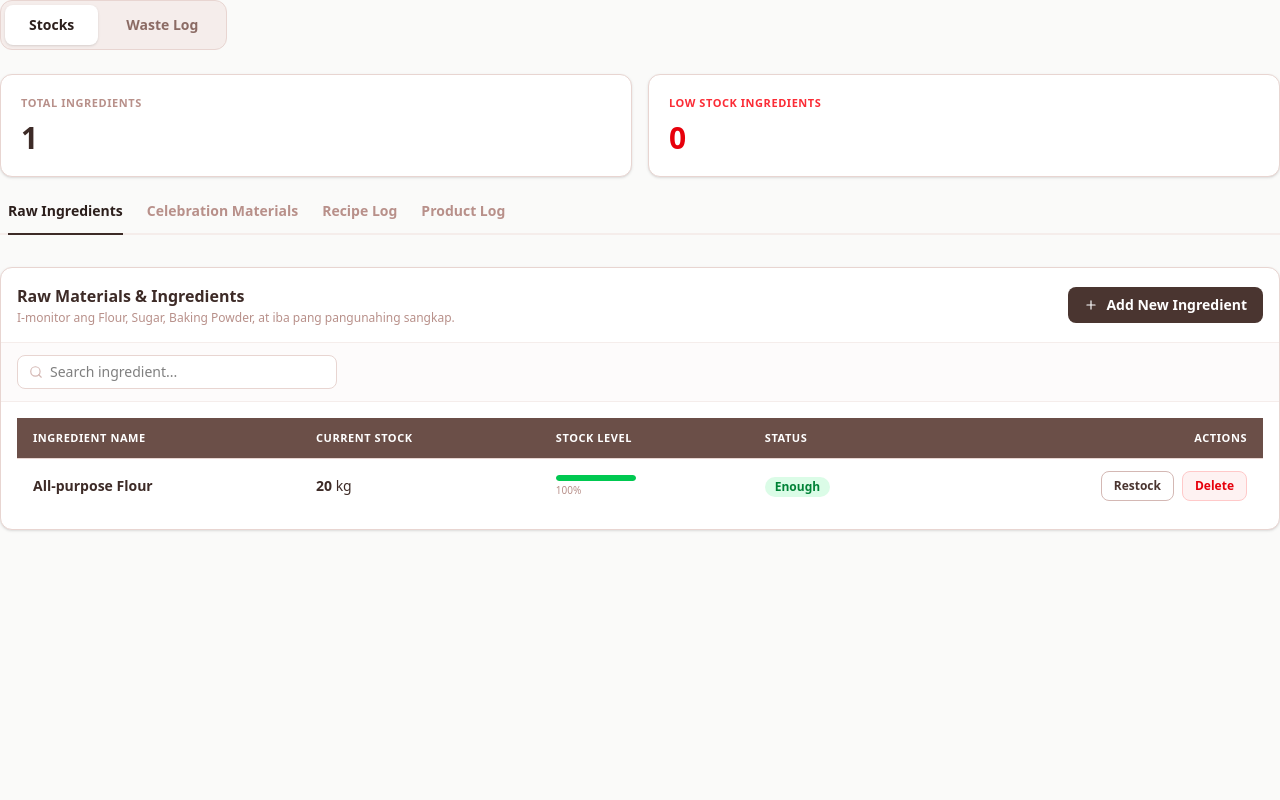
InventoryPage Inter-Component Integration (Real Child Tabs) › Product Log sub-tab › should show the empty-state message when search matches nothing
The width and height of the screenshot is (1280, 800).
Click the button "Product Log" at (463, 218), box [421,200,505,234]
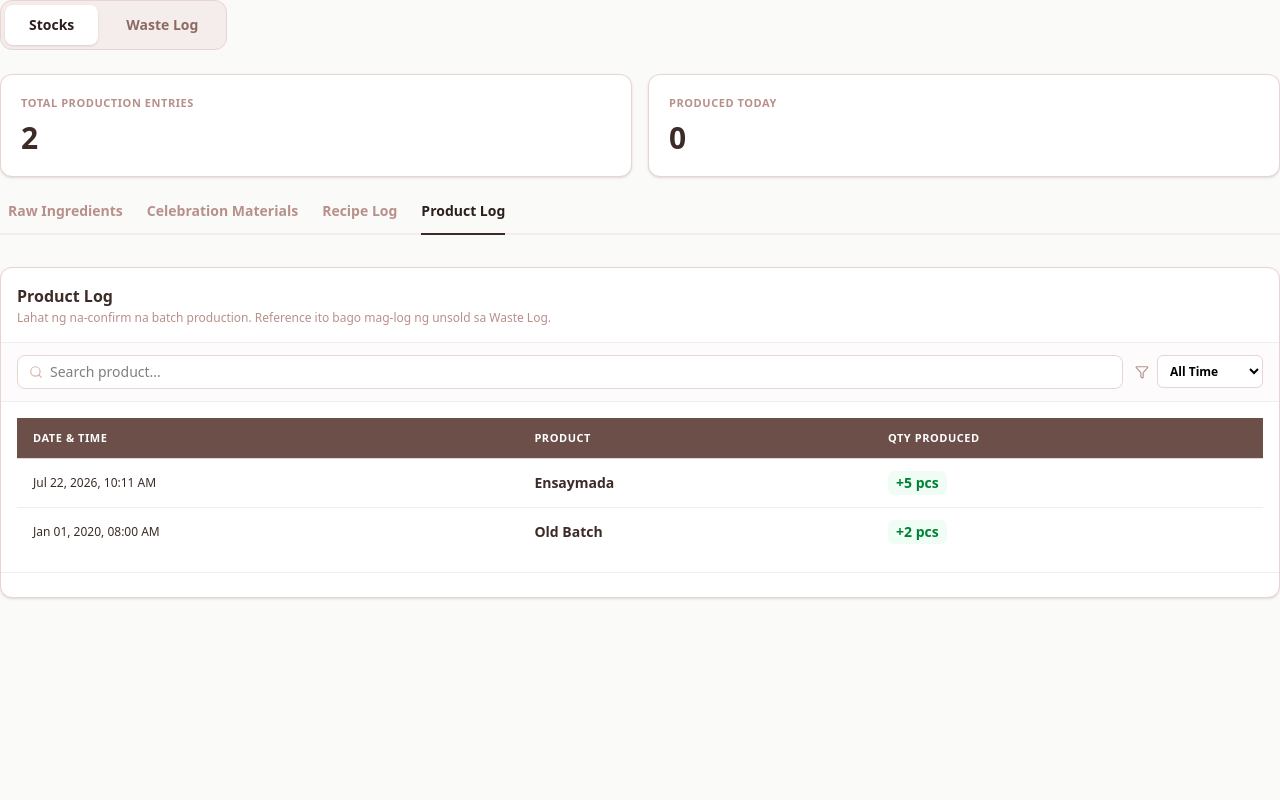
Type "Nonexistent Product" into the field with placeholder "Search product..." at (570, 372), box [17,354,1123,388]
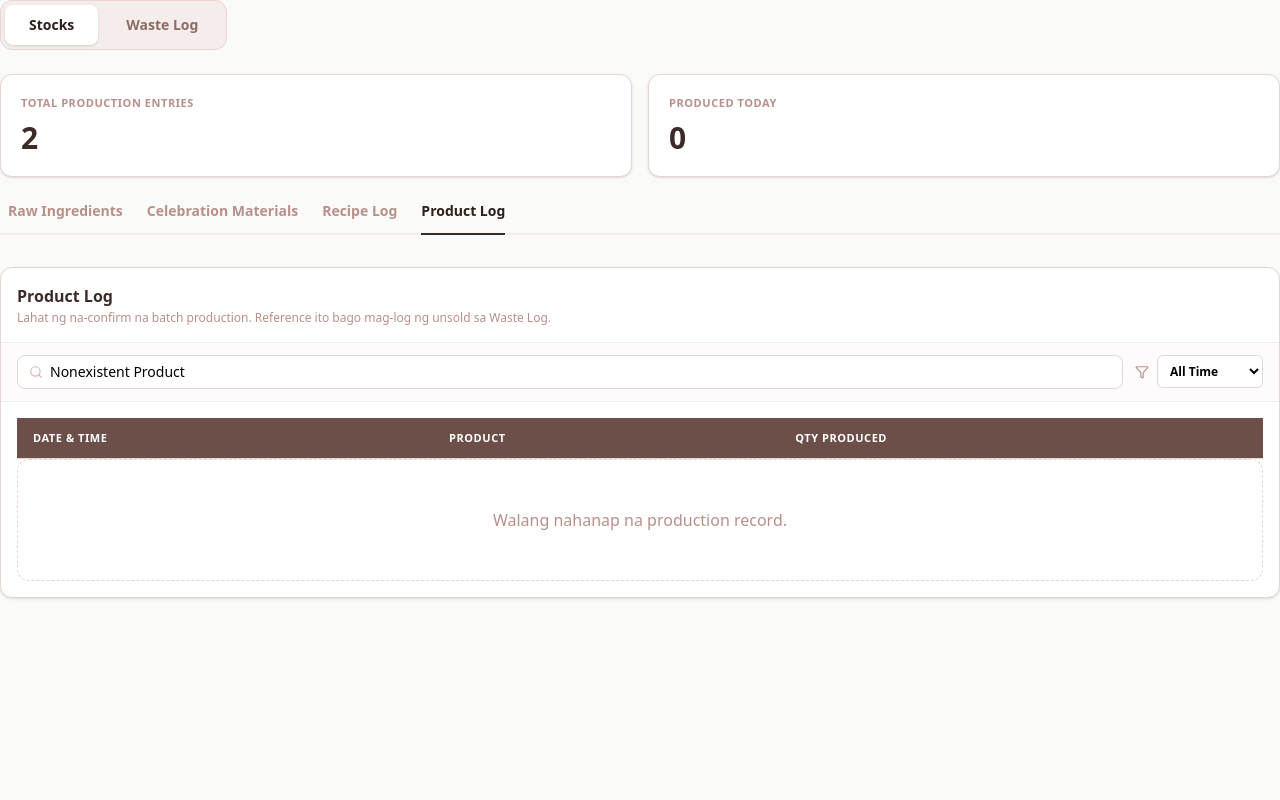
Check: the text "Walang nahanap na production record." is shown, box [17,459,1263,581]
